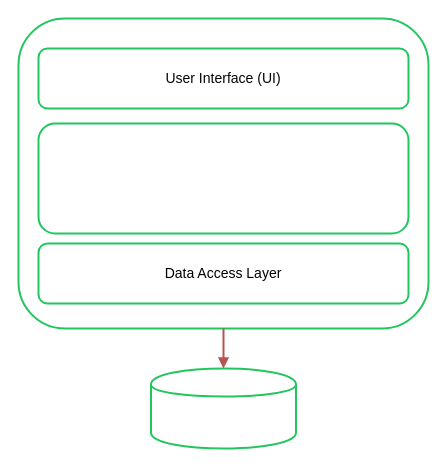
The diagram is 446 pixels wide and 466 high, and some of its shapes have lost their labels. The centre of each missing label's shape, as x and y in pixels:
Business Logic - User Management - Order Processing - Payment, Inventory, ...: the point at 223,178
Database: the point at 223,408
